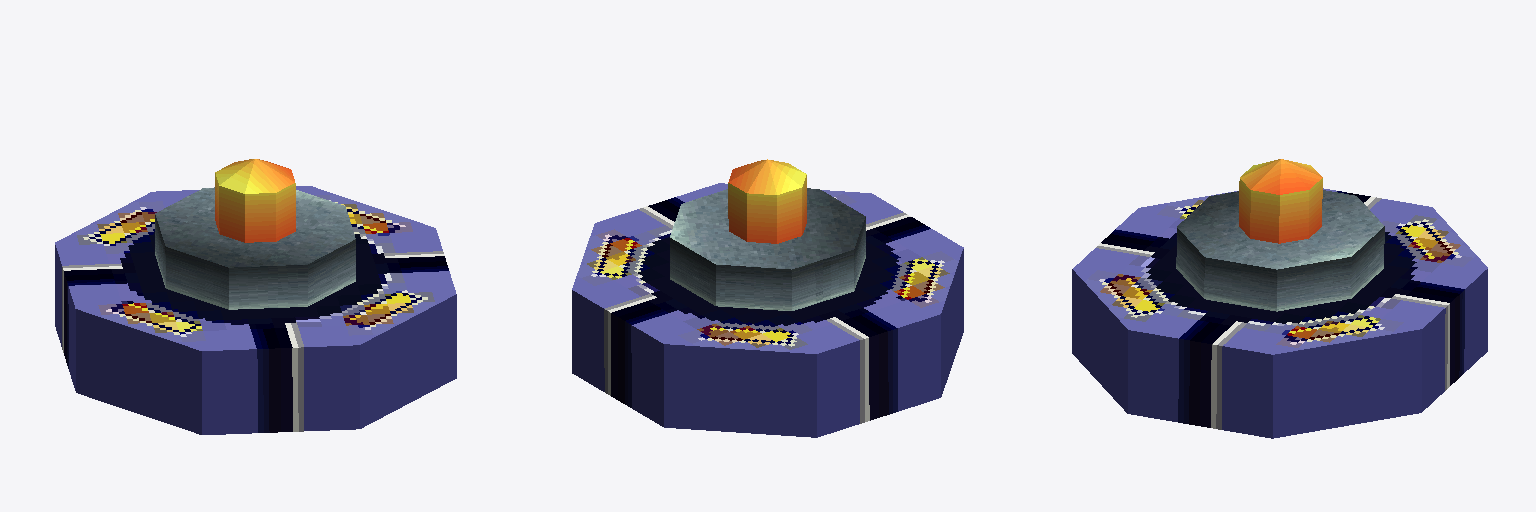
3 renders of one model, left to right at view 1: azimuth 30°, elevation 25°; view 2: azimuth 150°, elevation 25°; view 3: azimuth 270°, elevation 25°, orthographic.
Parts seen in each view (by area): view 1: Mesh.536_DrawCall_345; view 2: Mesh.536_DrawCall_345; view 3: Mesh.536_DrawCall_345.
Boxes of the visible parts, x1,y1,x2,y2 form: Mesh.536_DrawCall_345: [55, 159, 456, 434]; Mesh.536_DrawCall_345: [572, 159, 963, 437]; Mesh.536_DrawCall_345: [1072, 159, 1487, 438].
Bounding box in the file's own units: 8.99 × 4.72 × 9.17.
4 materials, 4 textured.